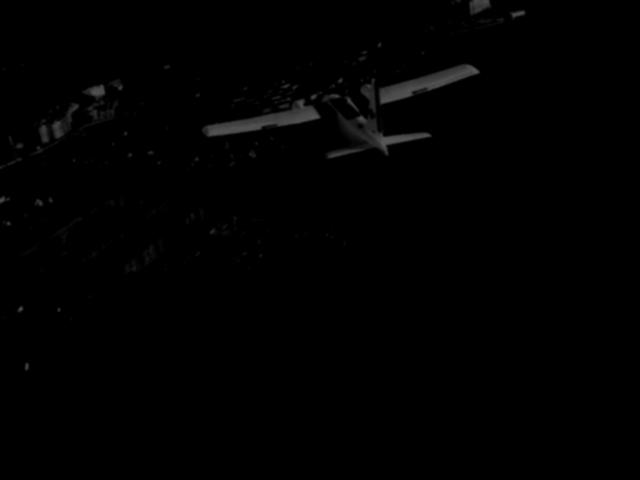hedef: (192, 30, 500, 216)
